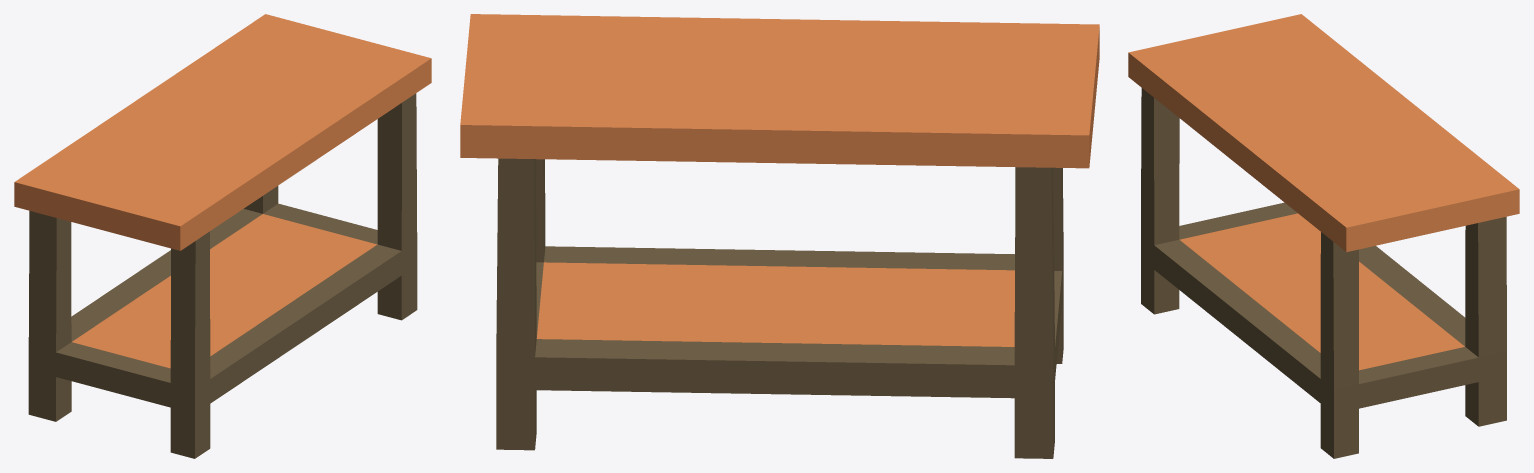
The model's file is workbench_orange.fbx.
3 renders of one model, left to right at view 1: azimuth 30°, elevation 25°; view 2: azimuth 150°, elevation 25°; view 3: azimuth 270°, elevation 25°, orthographic. The views are drawn at different scales.
Visible parts, largest first — view 1: workbench_orange; view 2: workbench_orange; view 3: workbench_orange.
Part boxes in pixels (x1,y1,x2,y2): workbench_orange: (14, 14, 431, 458); workbench_orange: (460, 14, 1099, 458); workbench_orange: (1128, 14, 1519, 458).
Size of the model in its own units: 163 by 85.87 by 126.
Materials: 1 (1 with a texture image).
